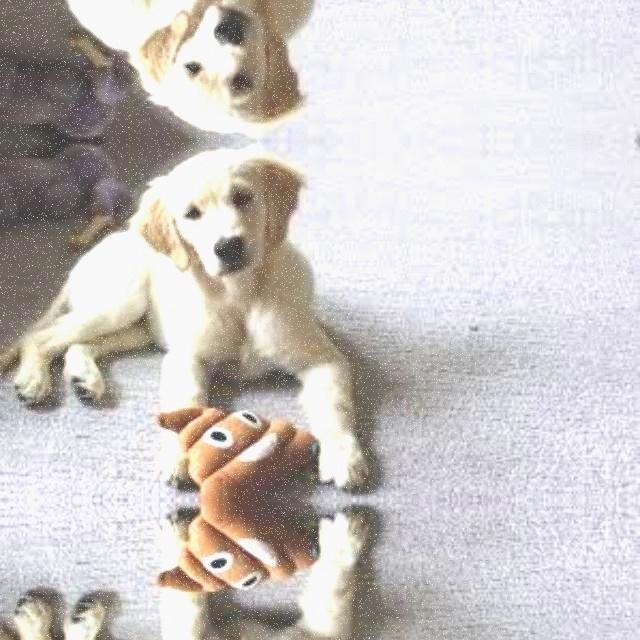dog: (138, 142, 302, 290), (138, 0, 301, 138)
